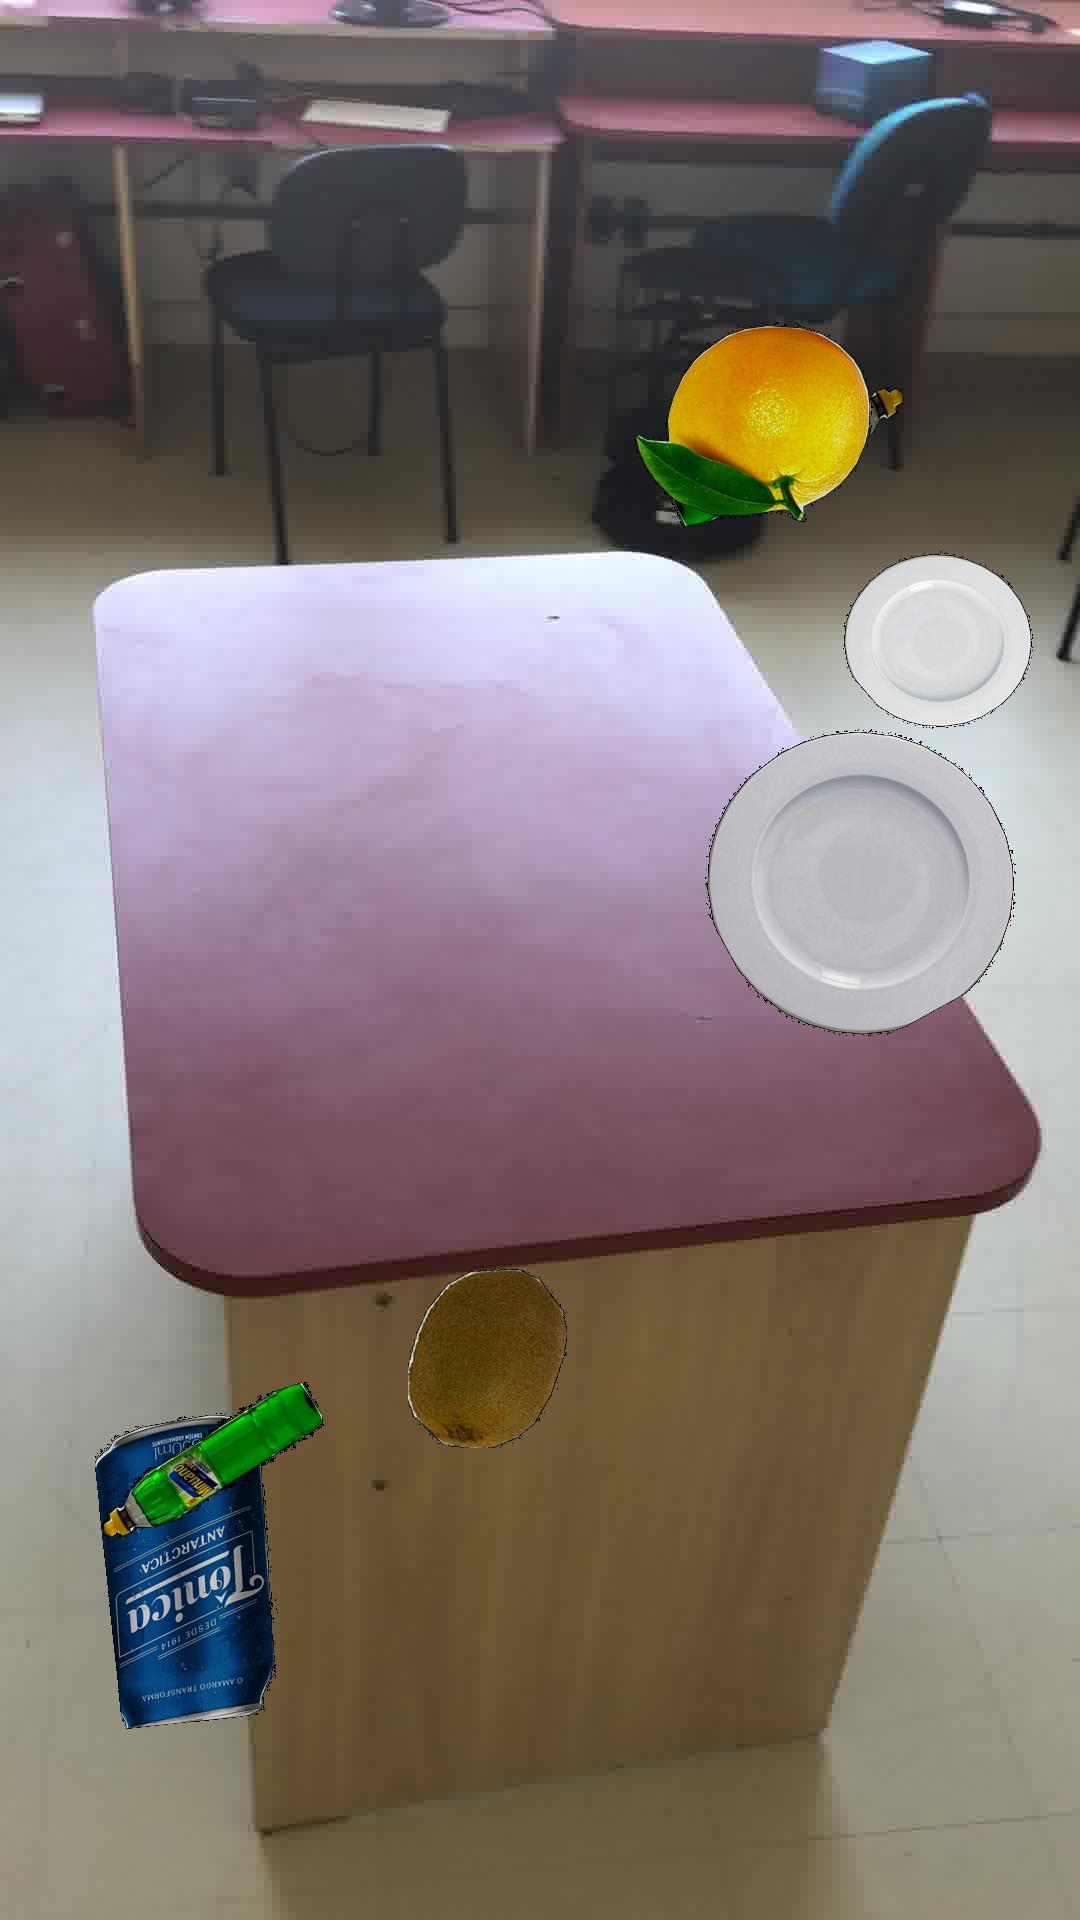cleaner: (99, 1381, 323, 1536), (670, 385, 902, 525)
kiwi: (406, 1267, 566, 1447)
orange: (633, 323, 869, 521)
plate: (703, 731, 1013, 1034), (843, 553, 1030, 725)
tonic: (94, 1414, 274, 1727)
